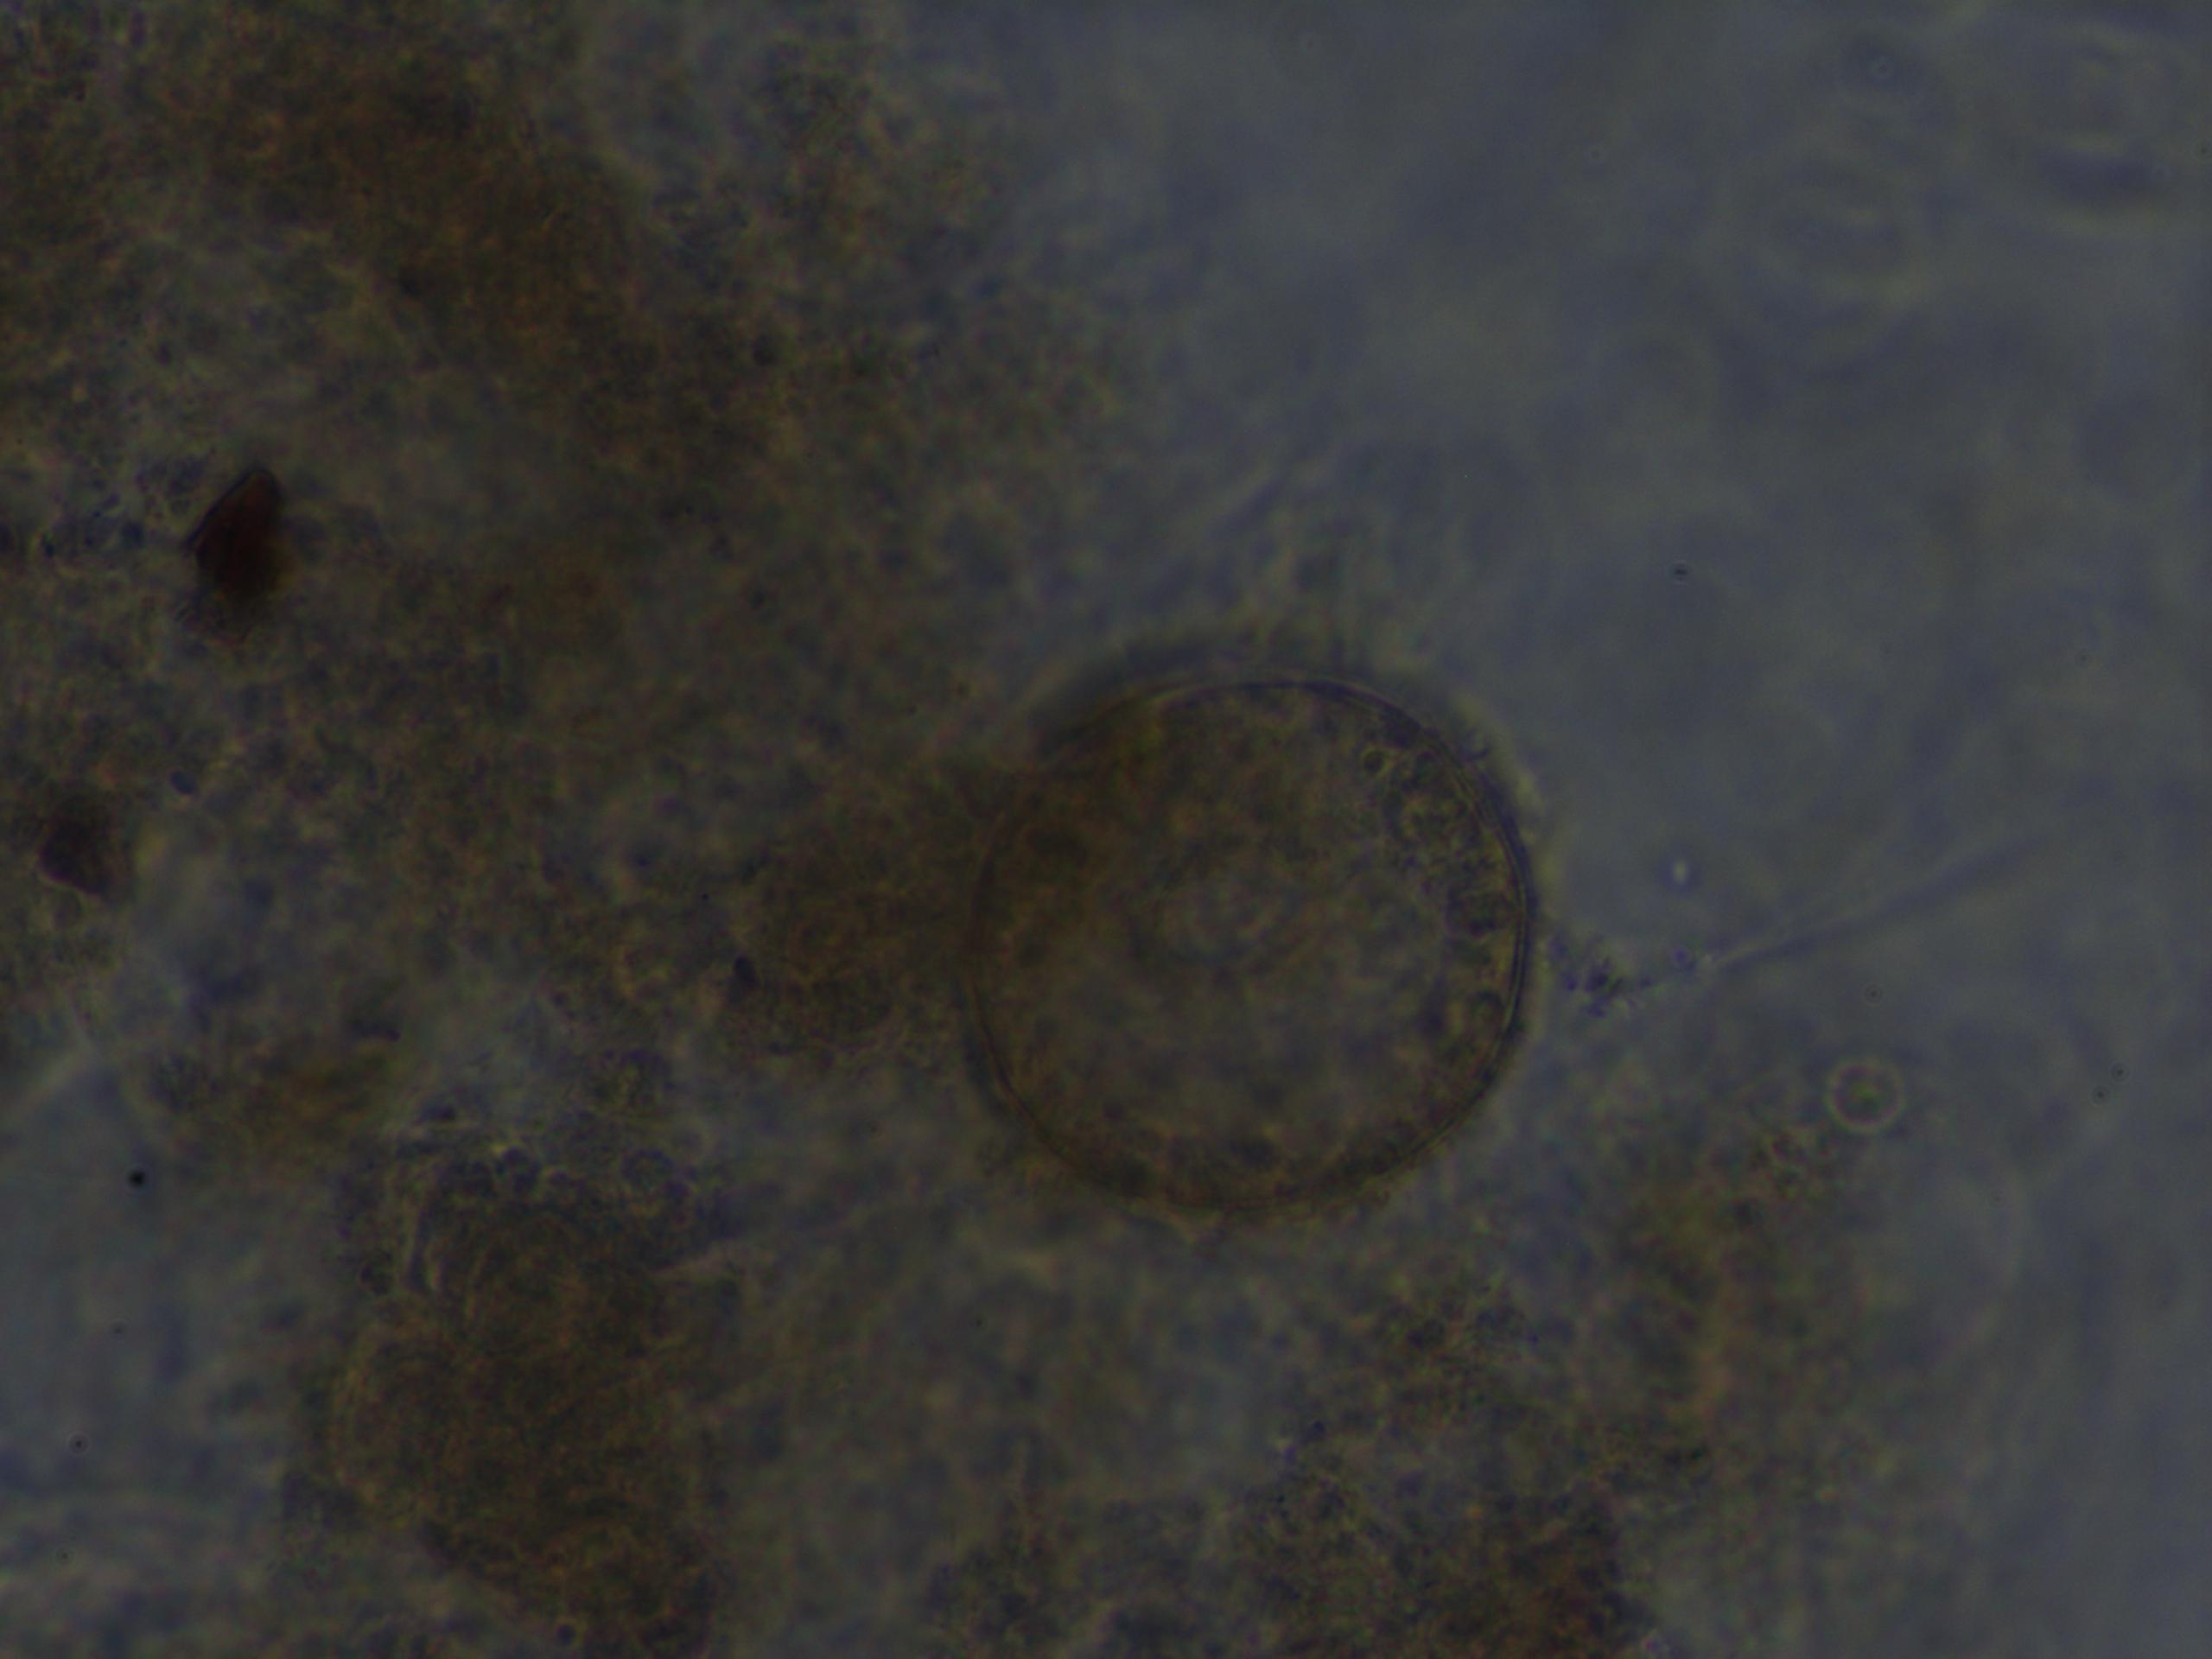protozoa: (939, 652, 1557, 1234)
